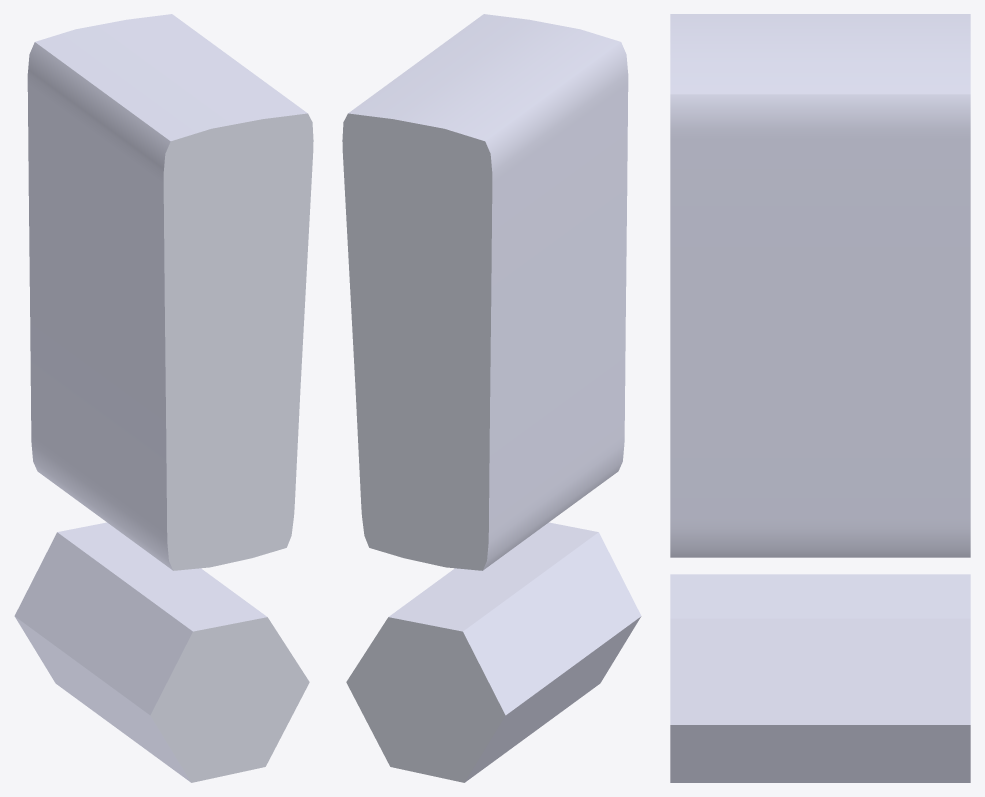
3 renders of one model, left to right at view 1: azimuth 30°, elevation 25°; view 2: azimuth 150°, elevation 25°; view 3: azimuth 270°, elevation 25°, orthographic. The views are drawn at different scales.
Parts seen in each view (by area): view 1: symbol!_Zyzol_Grey; view 2: symbol!_Zyzol_Grey; view 3: symbol!_Zyzol_Grey.
Boxes of the visible parts, left/top/right/bottom form: symbol!_Zyzol_Grey: left=14, top=14, right=313, bottom=782; symbol!_Zyzol_Grey: left=342, top=14, right=641, bottom=782; symbol!_Zyzol_Grey: left=670, top=14, right=970, bottom=782.
Size of what is drawn, in the model's own units: 0.0312 by 0.119 by 0.045.
2 materials, 2 textured.
